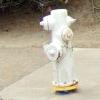a fire hydrant: (40, 7, 80, 95)
